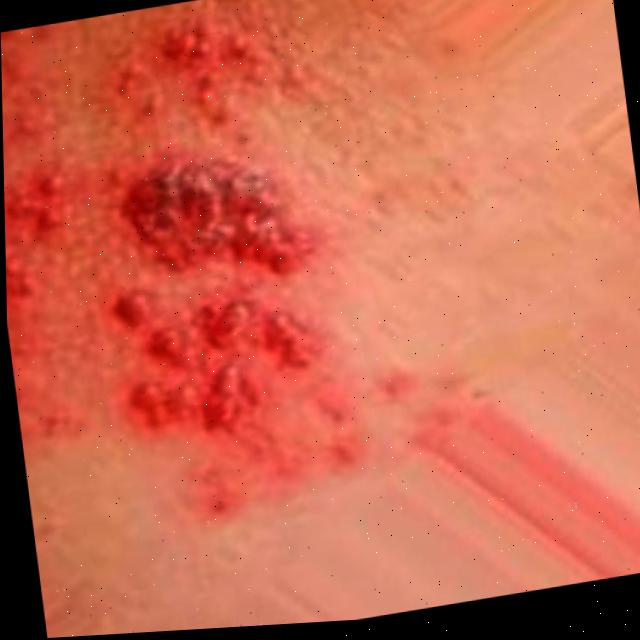Shingles: (0, 0, 493, 545)
